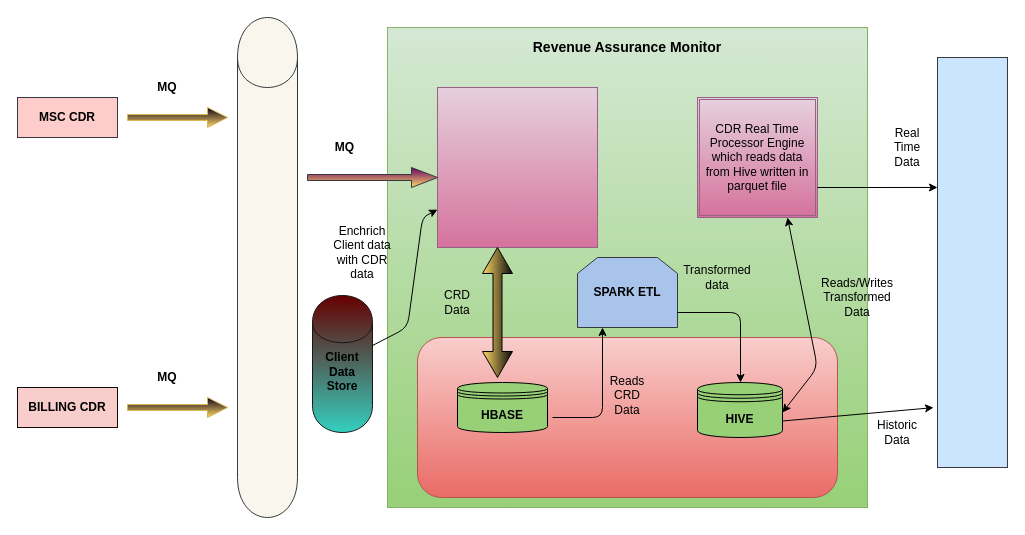
Image size: 1025x535. Some labels were removed from this diagram. The box of each missing label's shape, as (x1, y1, x2, y2) in pixels:
CDR Data Processor Engine Reads data from Kafka and loads into HBASE Big table: (436, 86, 598, 248)
D A T A V I S U A L I S A T I O N (D3.js): (936, 56, 1008, 468)
K A F K A S T O R E: (236, 16, 298, 518)
